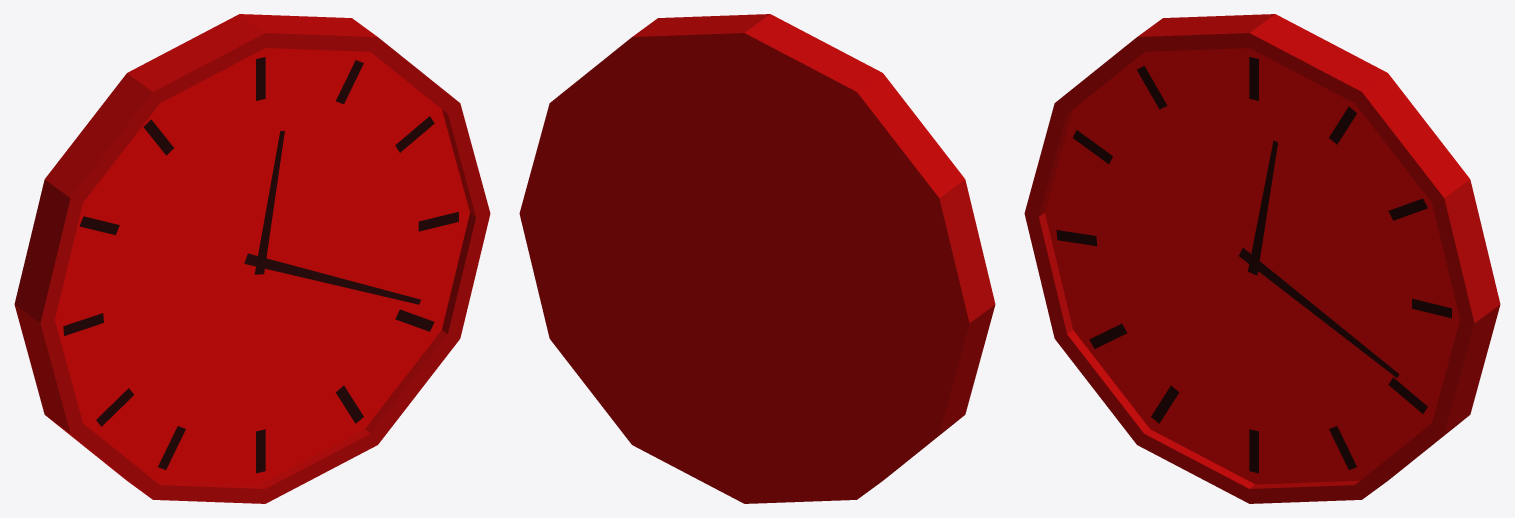
The model's file is Clock.glb.
3 renders of one model, left to right at view 1: azimuth 30°, elevation 25°; view 2: azimuth 150°, elevation 25°; view 3: azimuth 330°, elevation 25°, orthographic.
Visible parts, largest first — view 1: Clock; view 2: Clock; view 3: Clock.
Part boxes in pixels (x1=…): Clock: x1=14, y1=14, x2=490, y2=503; Clock: x1=519, y1=14, x2=995, y2=503; Clock: x1=1024, y1=14, x2=1500, y2=503.
Size of the model in its own units: 2.56 by 2.56 by 0.2859.
